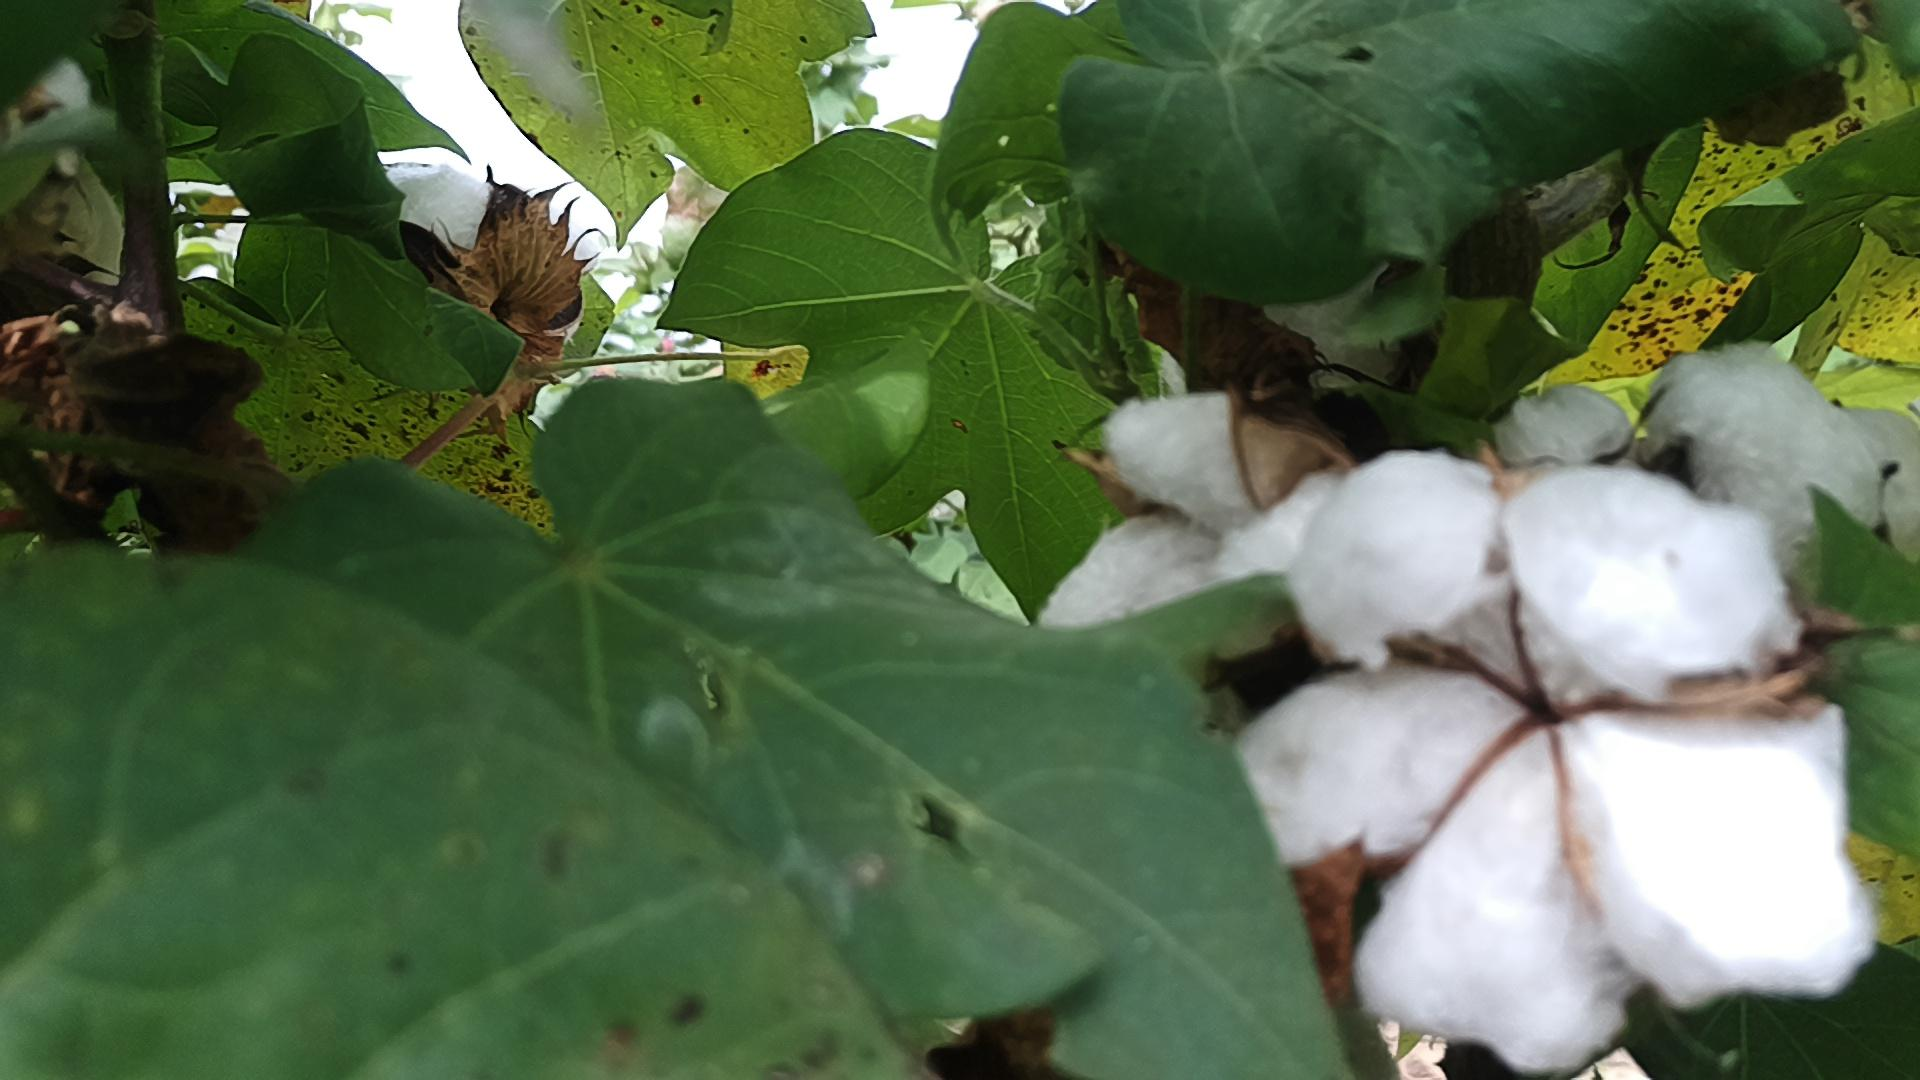cotton_ready: (1234, 446, 1878, 1076), (1035, 398, 1345, 637), (1638, 345, 1920, 589), (373, 161, 575, 309), (1487, 382, 1634, 485)
